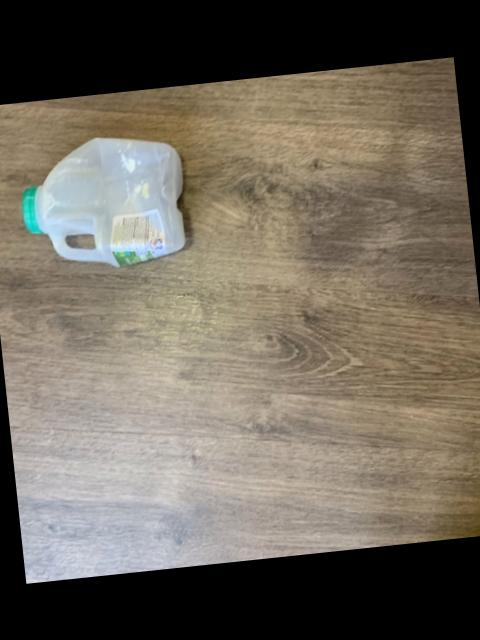plastic: (21, 136, 183, 263)
